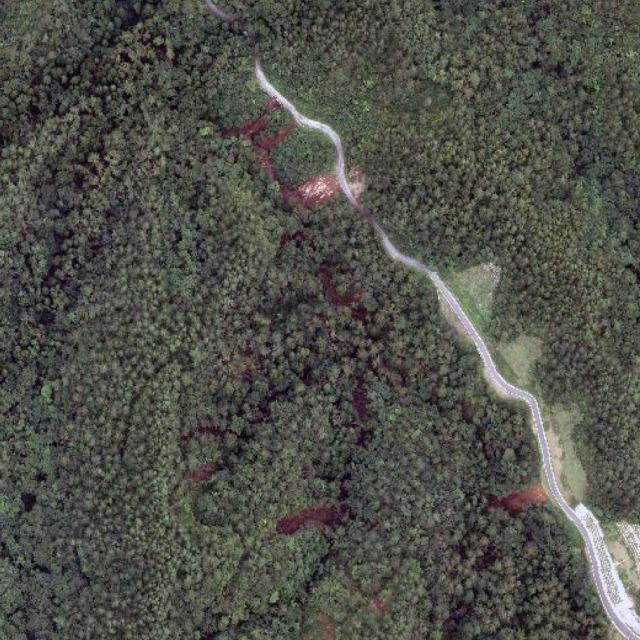landslide: (492, 485, 549, 518), (296, 172, 341, 207)
